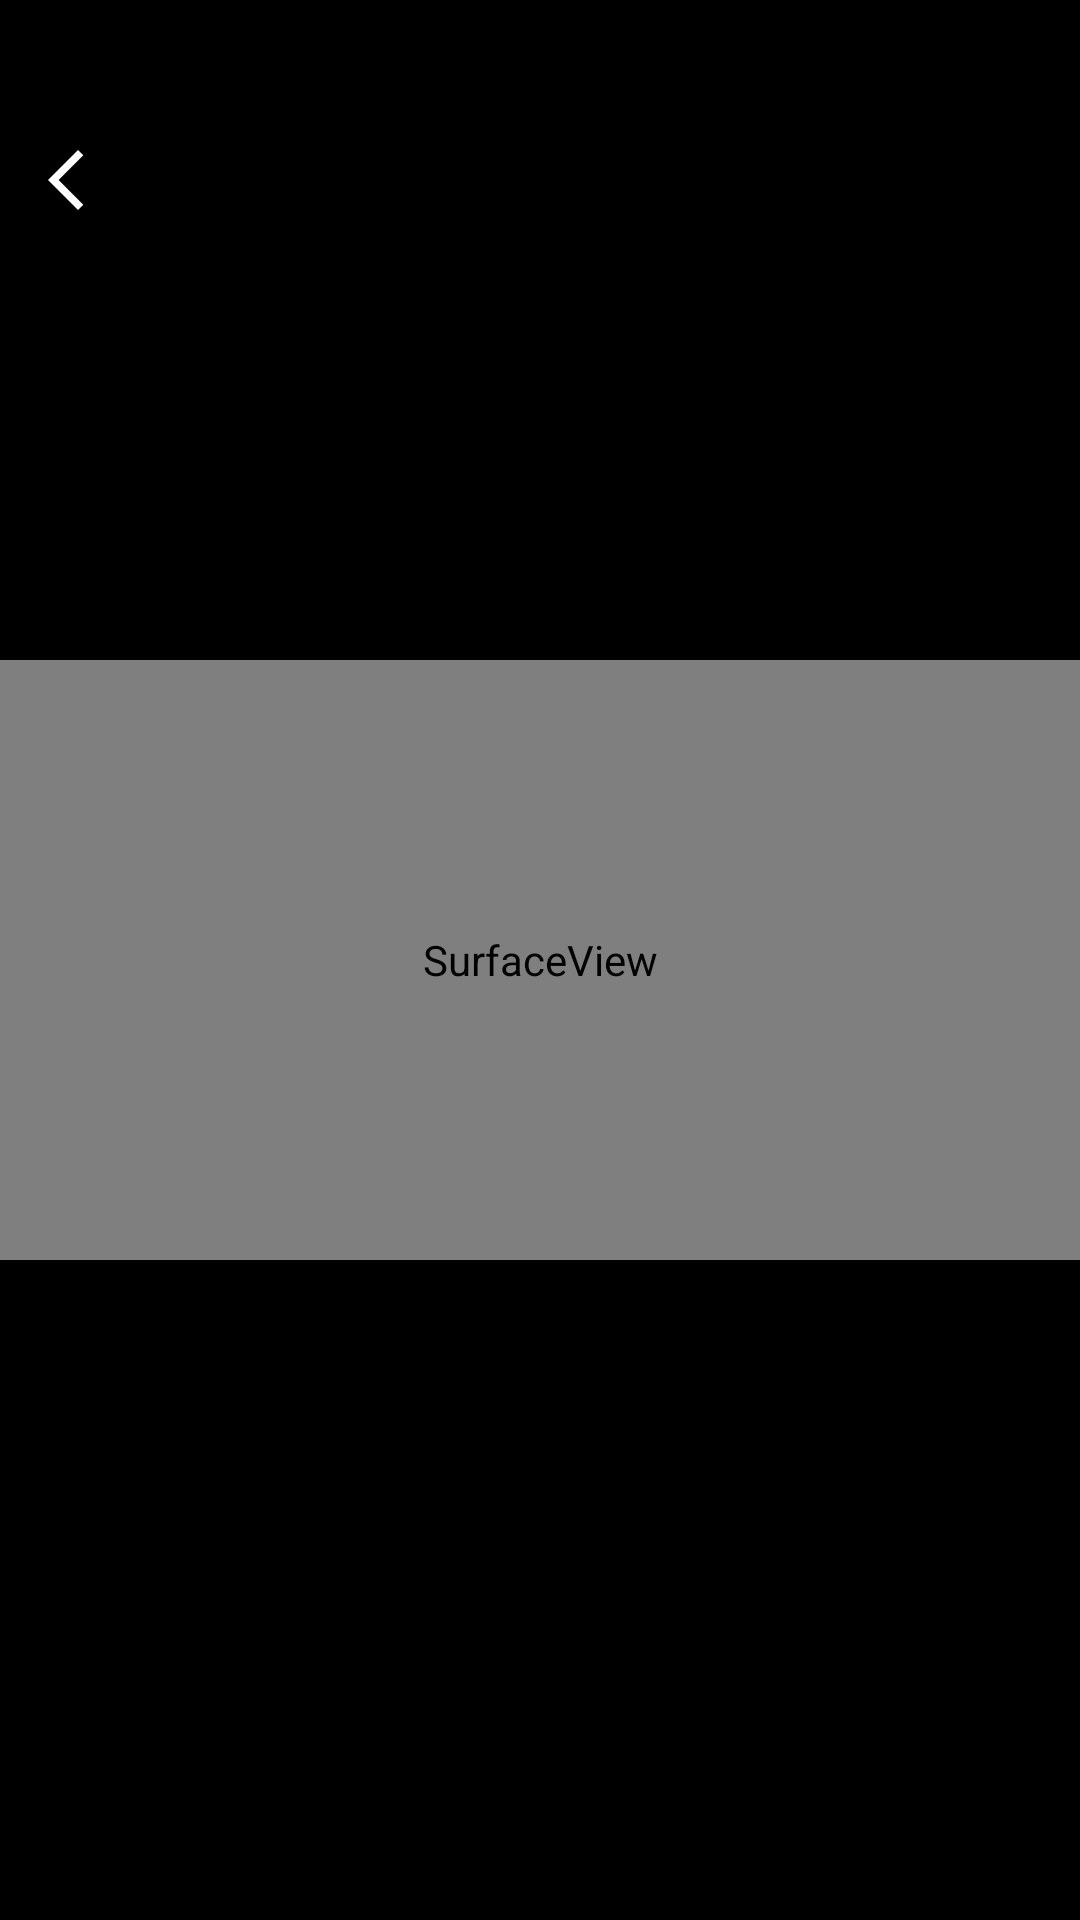

Icon click points for this 1080x1920 phone screenshot, format (x=x, y=y):
back: (x=65, y=180)
